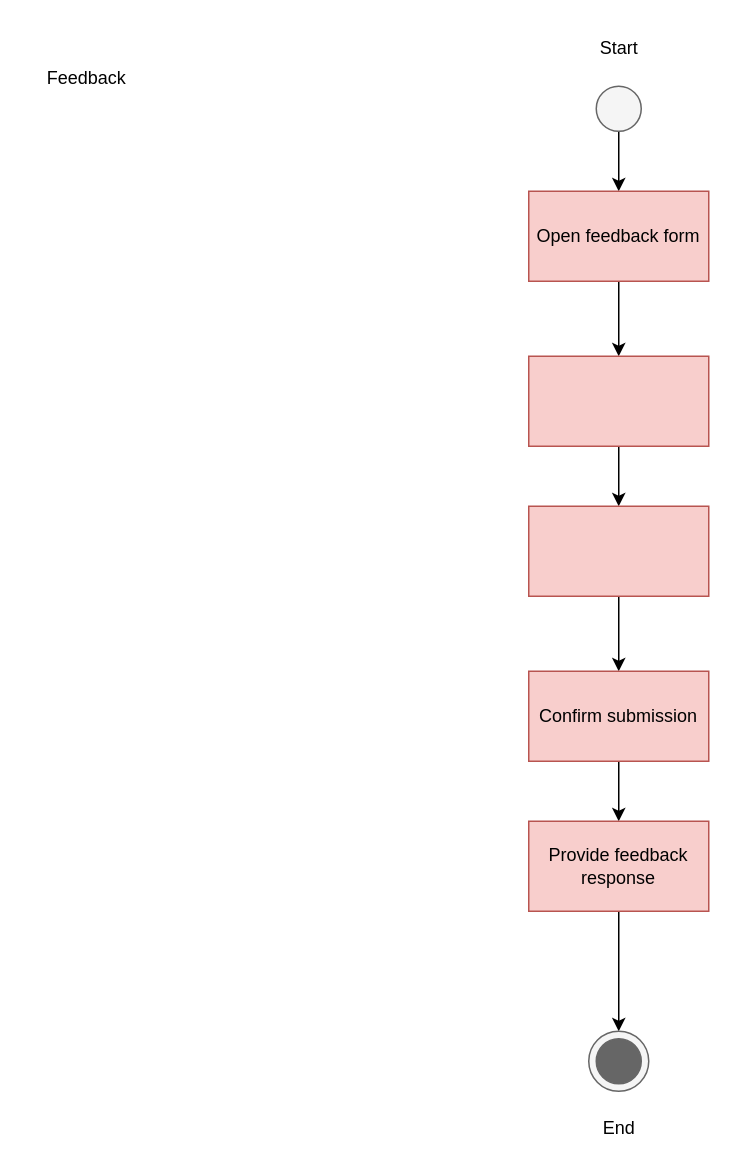
Image size: 735x1176. Some labels were removed from this diagram. The centre of each missing label's shape, as x and y in pixels:
"Fill form" belongs at (x=618, y=400).
"Submit the form" belongs at (x=618, y=550).
